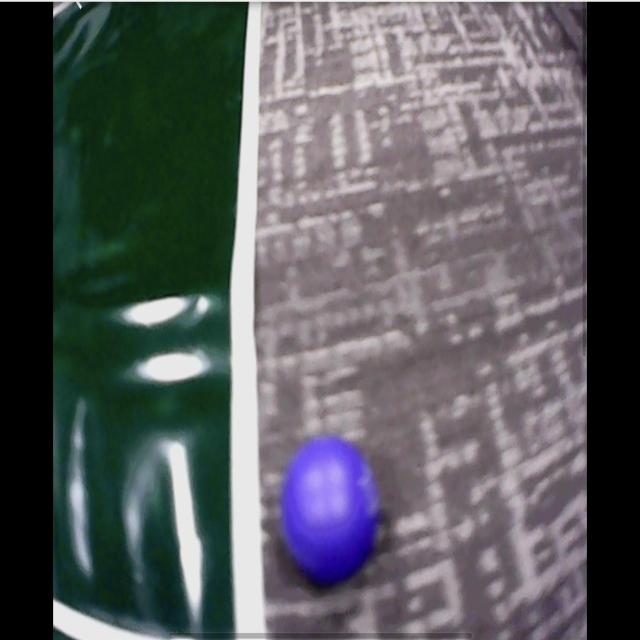ball: (282, 437, 378, 585)
